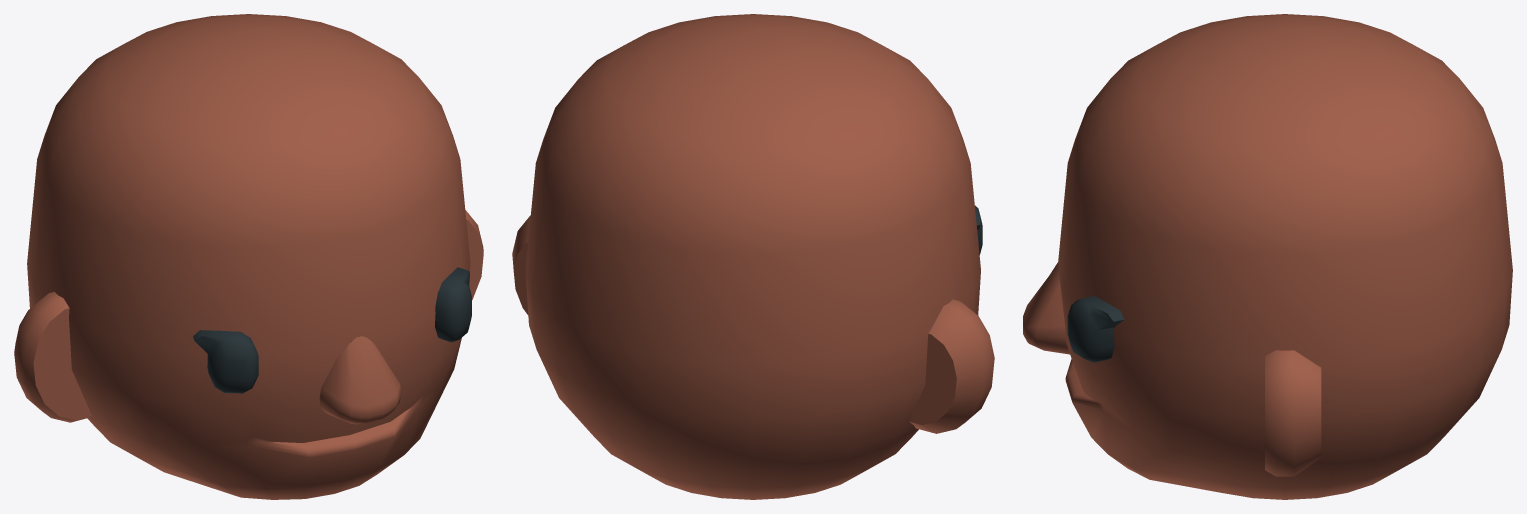
File: rogueHeadA.fbx
3 views of the same model, side by side, from view 1: azimuth 30°, elevation 25°; view 2: azimuth 150°, elevation 25°; view 3: azimuth 270°, elevation 25° (orthographic). The views are drawn at different scales.
Visible parts, largest first — view 1: rogueHeadA; view 2: rogueHeadA; view 3: rogueHeadA.
Boxes of the visible parts, left/top/right/bottom form: rogueHeadA: left=14, top=14, right=483, bottom=499; rogueHeadA: left=512, top=14, right=994, bottom=499; rogueHeadA: left=1023, top=14, right=1512, bottom=499.
Bounding box in the file's own units: 1.18 × 0.9703 × 1.05.
